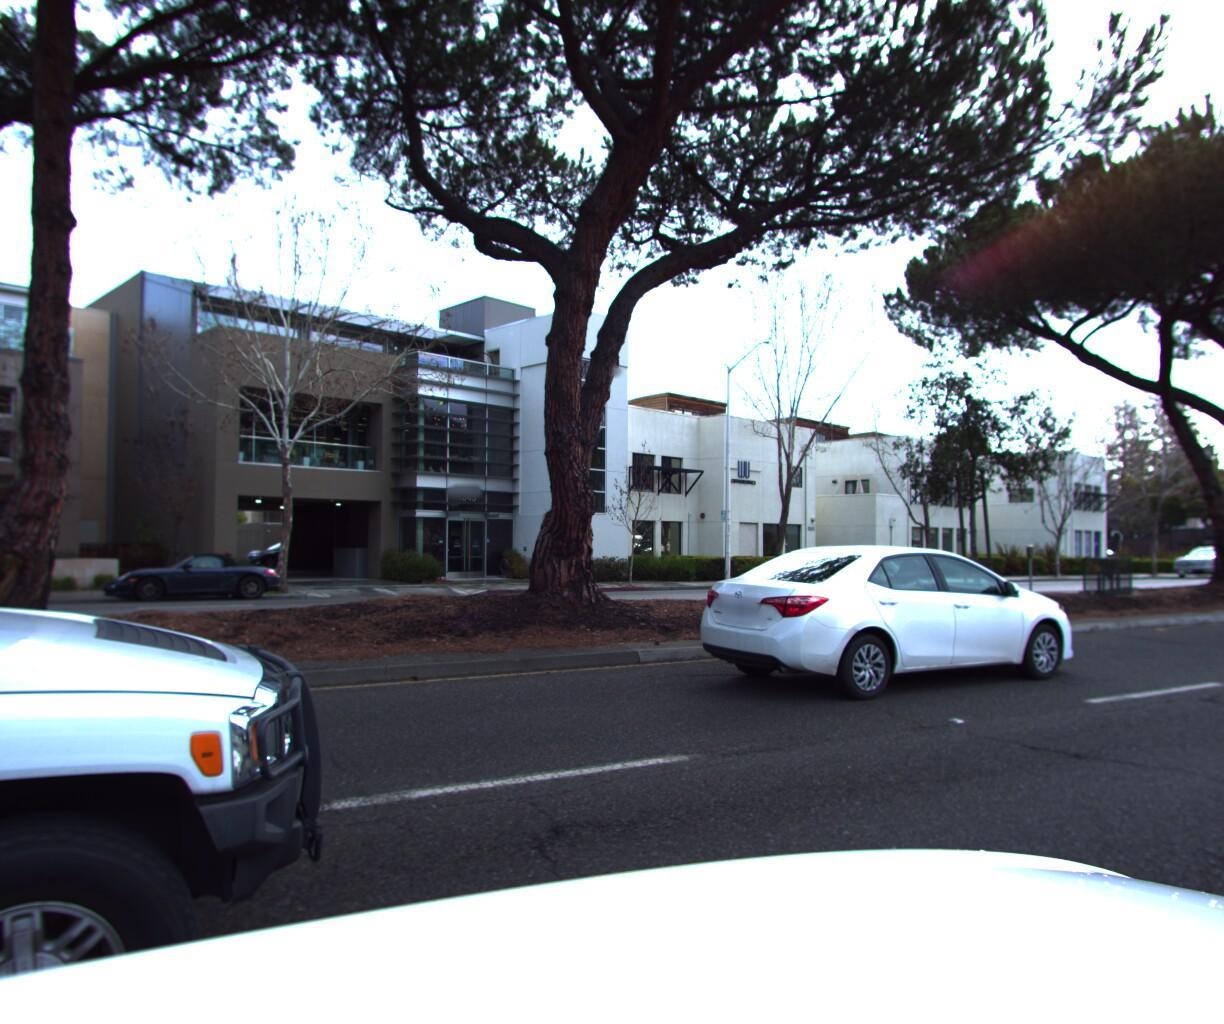car: (683, 538, 1093, 717), (103, 557, 290, 616), (1164, 552, 1224, 588), (236, 527, 294, 560)
